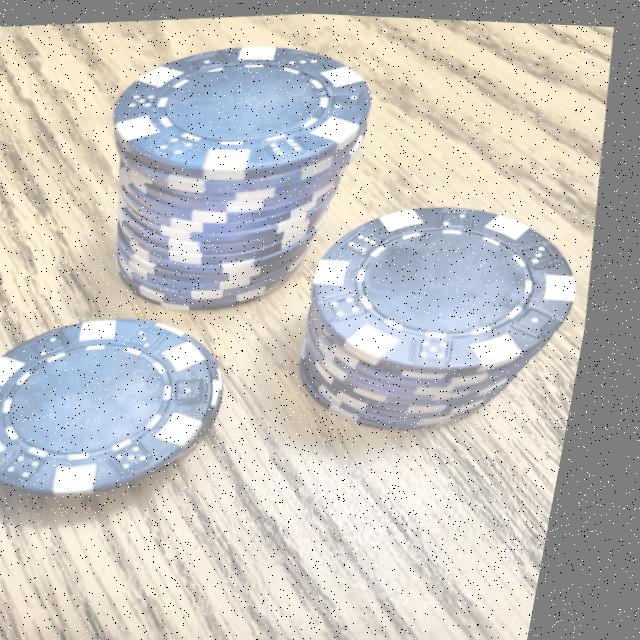Chip: (58, 20, 417, 326), (272, 172, 612, 444), (0, 292, 278, 537)
